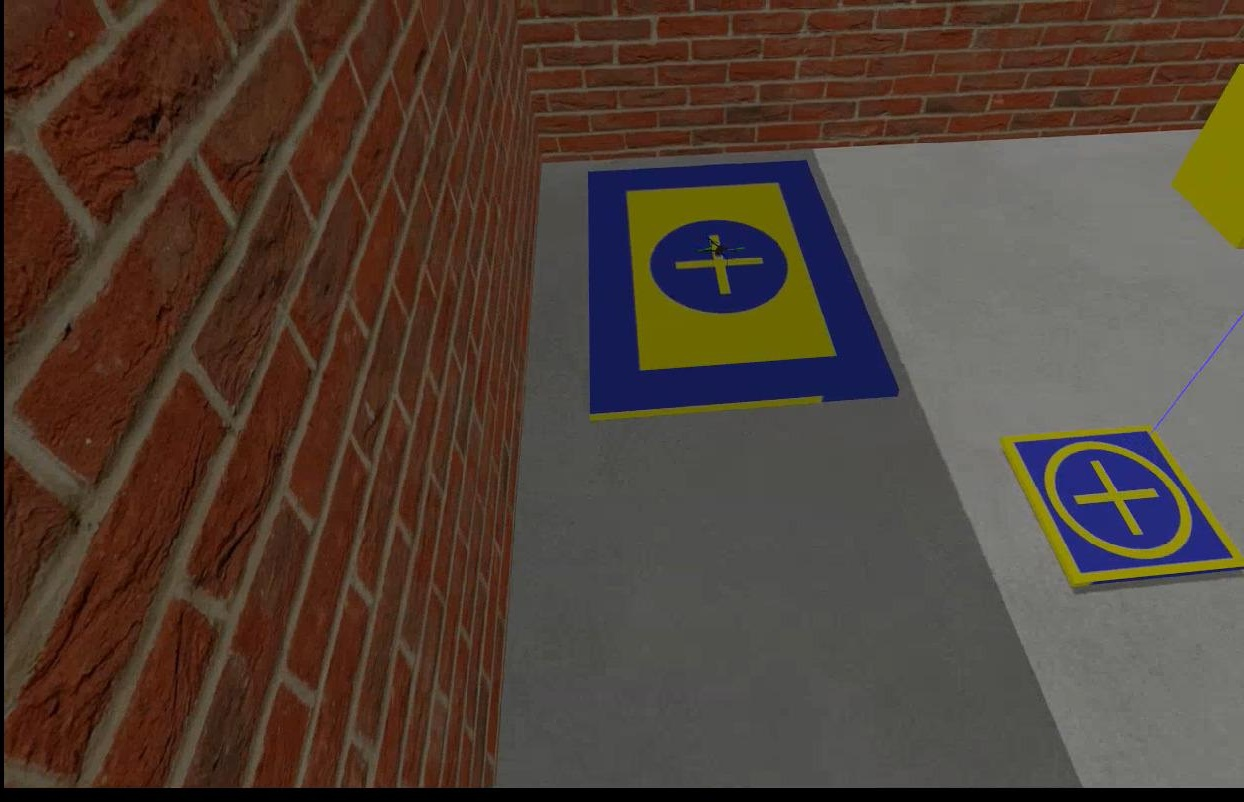large_base: (578, 156, 904, 427)
small_base: (992, 432, 1242, 594)
